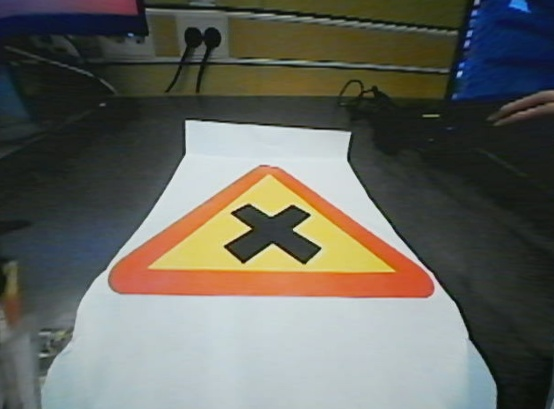junction: (112, 152, 443, 316)
